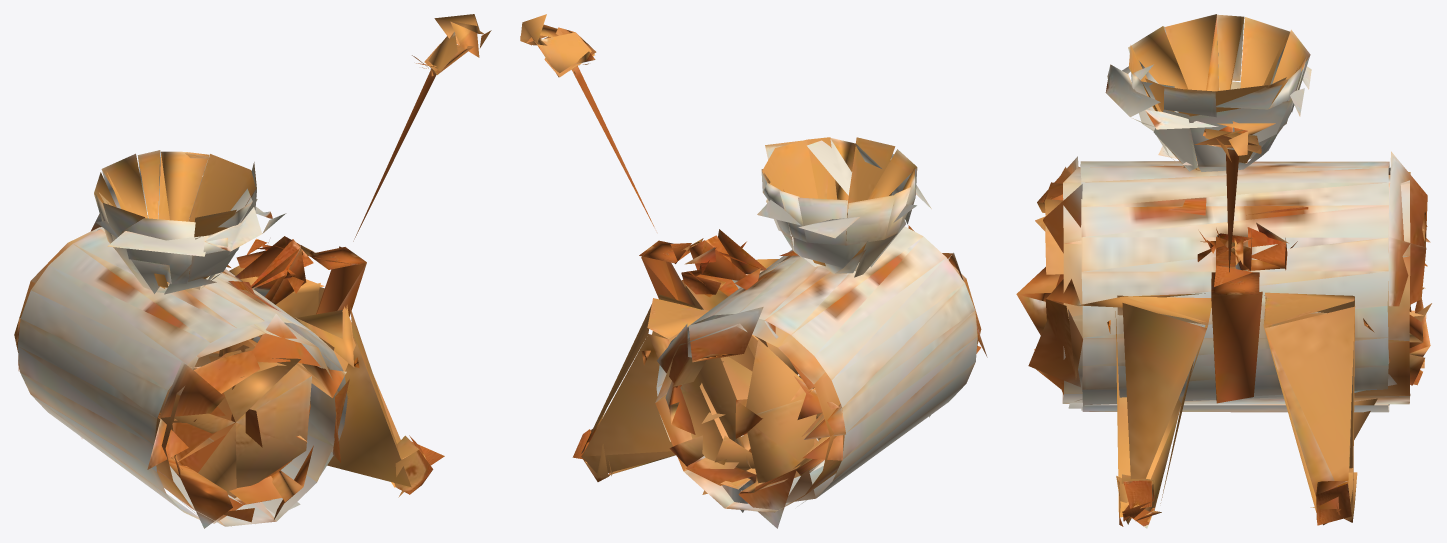
Rendered from mulcher.lod1.glb.
The picture shows the model from 3 angles, left to right: view 1: azimuth 30°, elevation 25°; view 2: azimuth 150°, elevation 25°; view 3: azimuth 270°, elevation 25°; orthographic projection. The views are drawn at different scales.
Visible parts, largest first — view 1: drum, mulcher; view 2: drum, mulcher; view 3: drum, mulcher.
Part boxes in pixels (left/top/right/bottom): drum: left=14, top=213, right=349, bottom=528; mulcher: left=94, top=14, right=491, bottom=497; drum: left=655, top=225, right=987, bottom=528; mulcher: left=520, top=14, right=931, bottom=481; drum: left=1016, top=151, right=1431, bottom=439; mulcher: left=1078, top=14, right=1388, bottom=528.
Bounding box in the file's own units: 1.03 × 0.9886 × 0.7998.
1 material, 1 textured.
